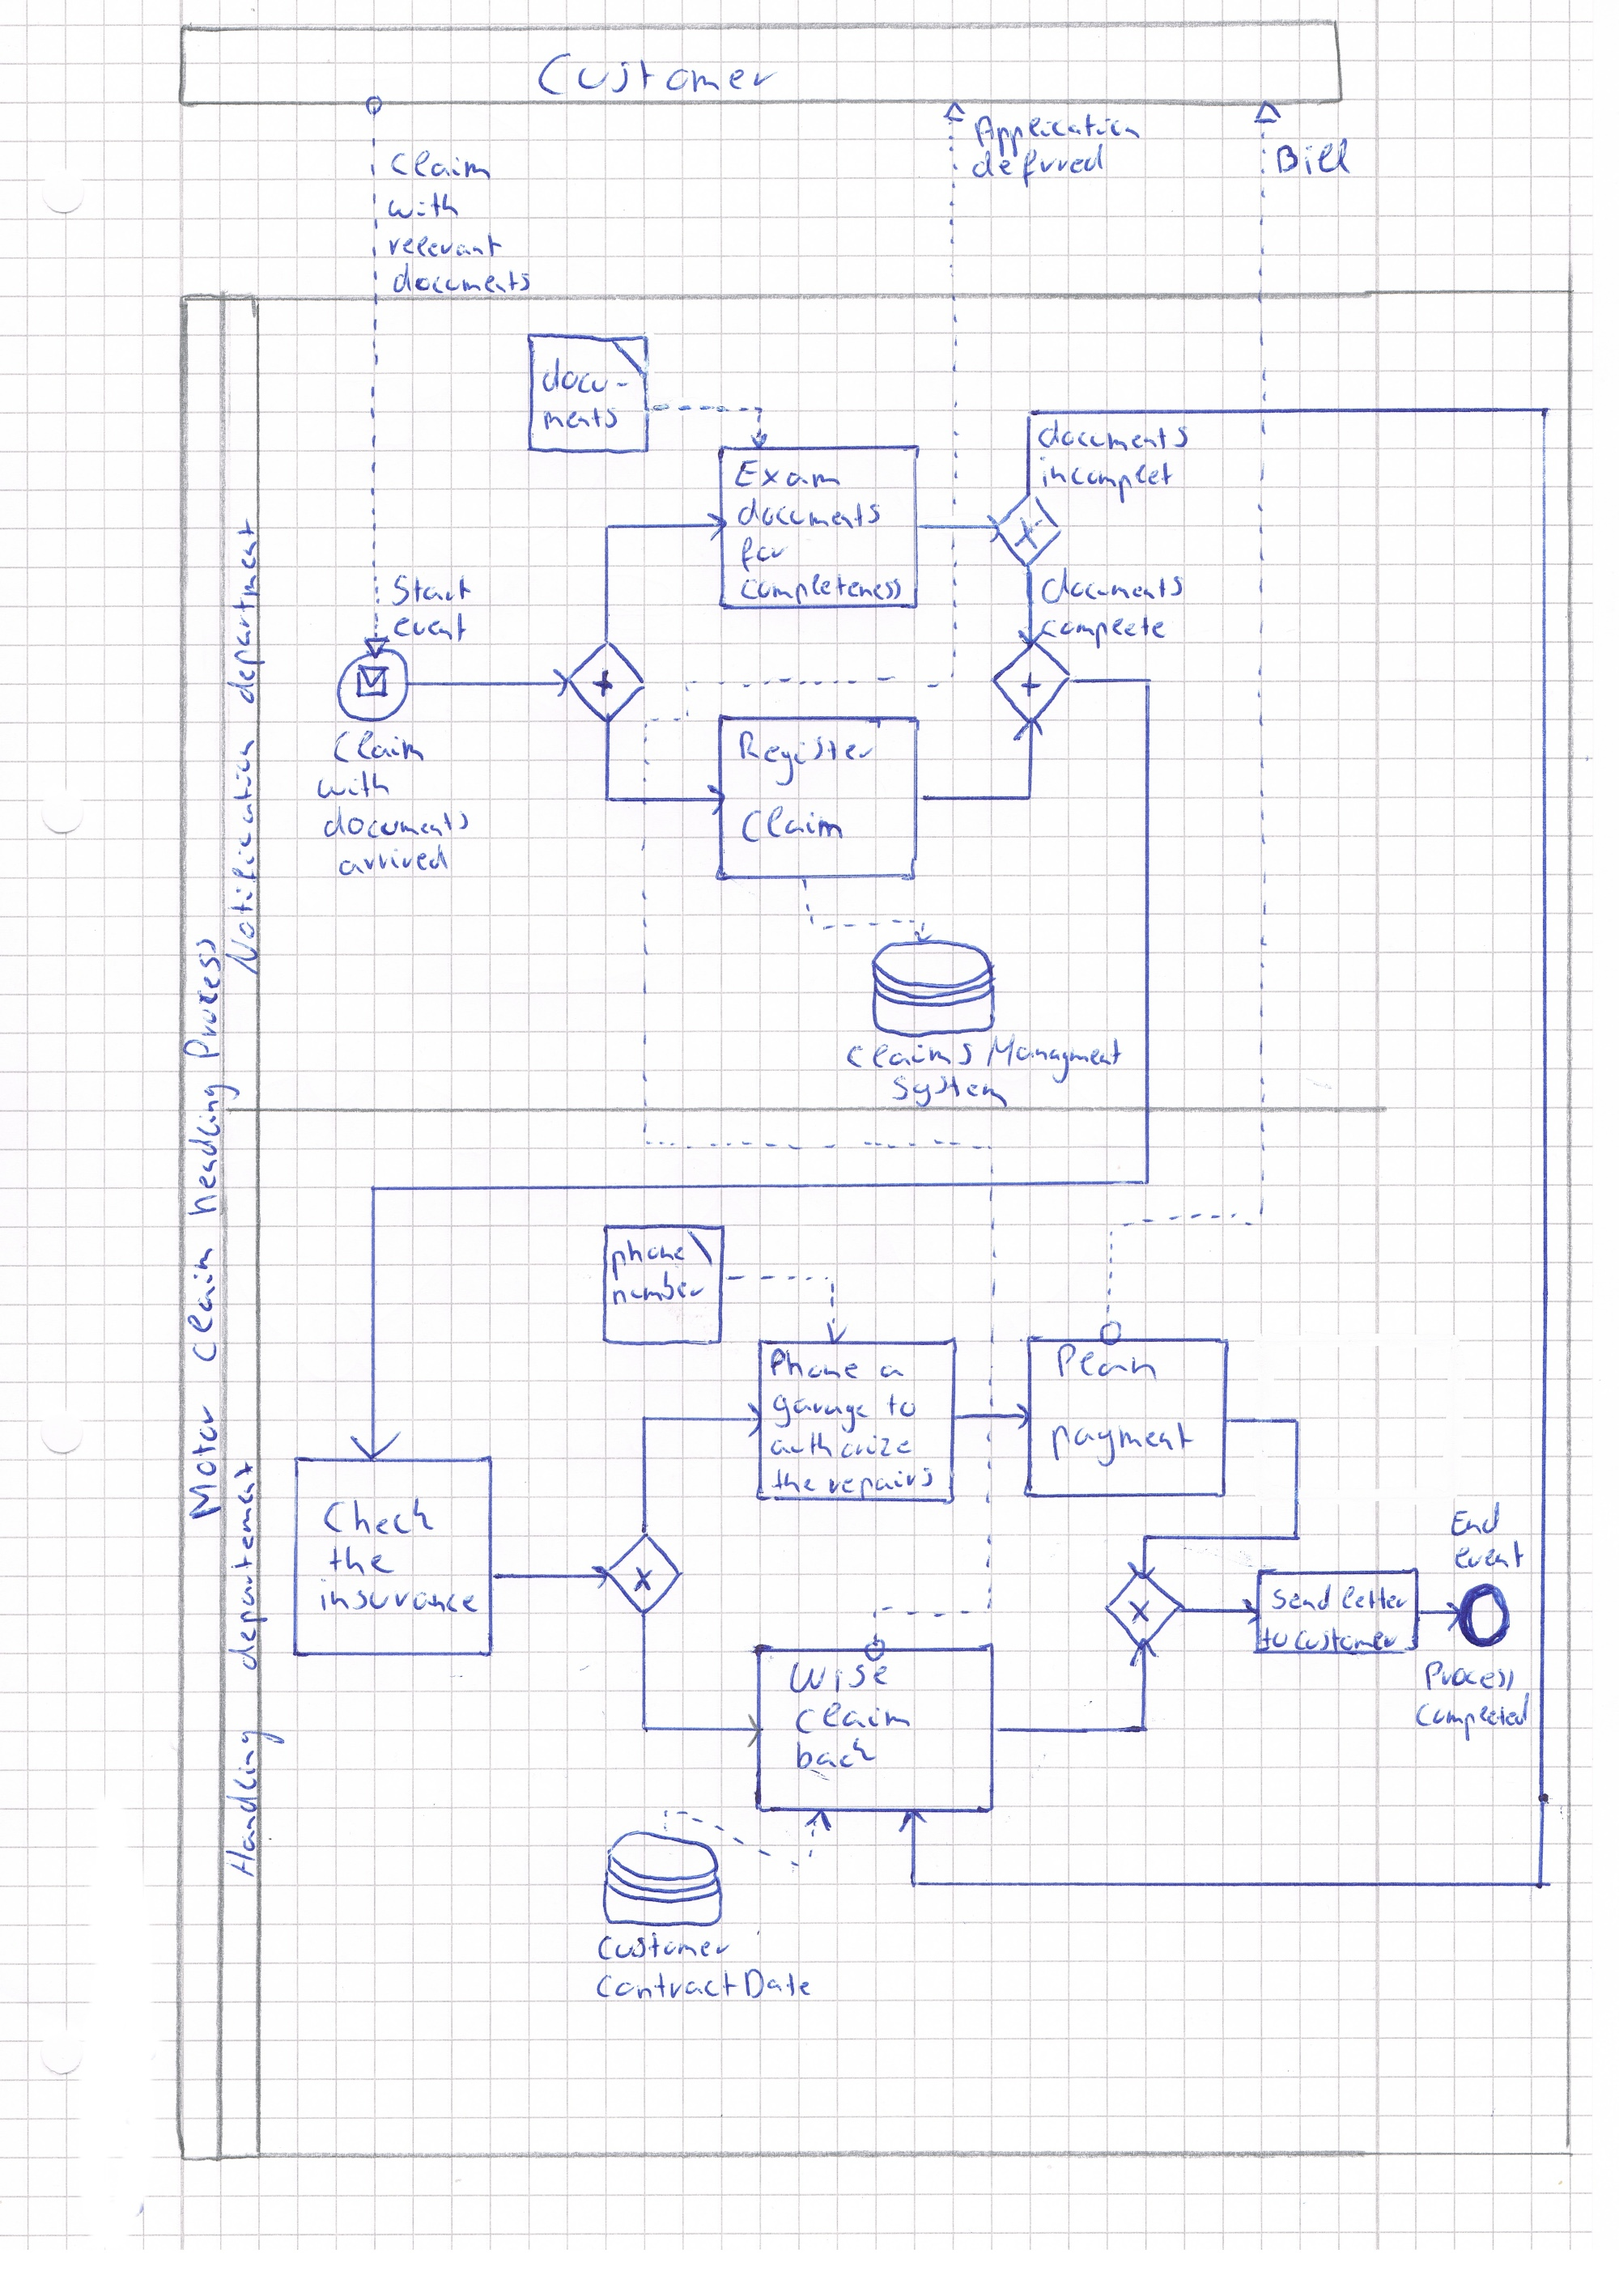Application: (967, 107, 1148, 163)
Bill: (1269, 131, 1358, 182)
Check: (317, 1490, 442, 1543)
Claim: (734, 800, 850, 848), (326, 727, 429, 769)
Completed: (1410, 1687, 1535, 1746)
Contract: (590, 1965, 743, 2007)
Customer: (531, 46, 787, 107), (592, 1926, 736, 1967)
Date: (739, 1963, 818, 2005)
End: (1447, 1496, 1505, 1541)
Exam: (729, 454, 848, 494)
Handling: (219, 1723, 289, 1883)
Managment: (979, 1028, 1128, 1089)
Motor: (180, 1398, 230, 1527)
Notification: (217, 732, 265, 982)
Phone: (764, 1343, 866, 1387)
Plan: (1050, 1340, 1165, 1389)
Process: (175, 930, 228, 1067), (1419, 1655, 1523, 1697)
Register: (734, 725, 883, 793)
Send: (1265, 1578, 1337, 1616)
Start: (385, 569, 478, 613)
a: (873, 1357, 908, 1385)
arrived: (333, 839, 454, 881)
authorize: (766, 1427, 918, 1462)
back: (790, 1732, 881, 1774)
claim: (179, 1236, 224, 1370), (788, 1697, 918, 1741), (384, 145, 498, 184)
claims: (841, 1037, 979, 1075)
complete: (1036, 609, 1172, 655)
completeness: (734, 567, 908, 609)
customer: (1290, 1622, 1403, 1659)
defrred: (965, 137, 1111, 193)
departement: (223, 1454, 275, 1678)
department: (223, 513, 272, 709)
docu-: (536, 352, 634, 401)
documents: (1036, 560, 1191, 609), (317, 800, 477, 844), (1034, 413, 1195, 455), (732, 492, 887, 534), (385, 257, 536, 298)
event: (389, 609, 471, 648), (1449, 1536, 1530, 1574)
for: (734, 532, 797, 578)
garage: (767, 1389, 874, 1440)
handling: (179, 1079, 245, 1222)
incomplet: (1034, 452, 1179, 510)
insurance: (314, 1573, 484, 1618)
letter: (1337, 1580, 1412, 1616)
ments: (538, 399, 624, 434)
number: (606, 1266, 710, 1312)
payment: (1044, 1415, 1202, 1473)
phone: (606, 1235, 692, 1287)
relevant: (382, 226, 512, 263)
repairs: (822, 1462, 937, 1504)
system: (885, 1068, 1015, 1114)
the: (324, 1541, 401, 1580), (767, 1464, 824, 1499)
to: (881, 1389, 922, 1424), (1256, 1622, 1293, 1653)
wise: (783, 1655, 895, 1701)
with: (310, 767, 398, 804), (384, 187, 466, 224)
